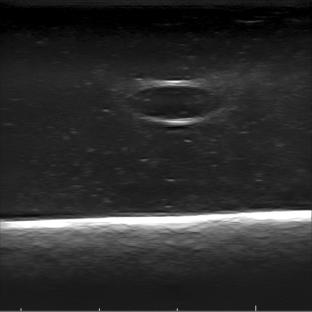vessel: (127, 79, 224, 125)
